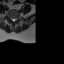CCS_normal: (13, 16, 14, 23)
LFS_normal: (16, 16, 17, 21)
LLS_normal: (14, 16, 16, 22)
RFS_normal: (9, 15, 11, 21)
RLS_normal: (11, 16, 13, 22)
